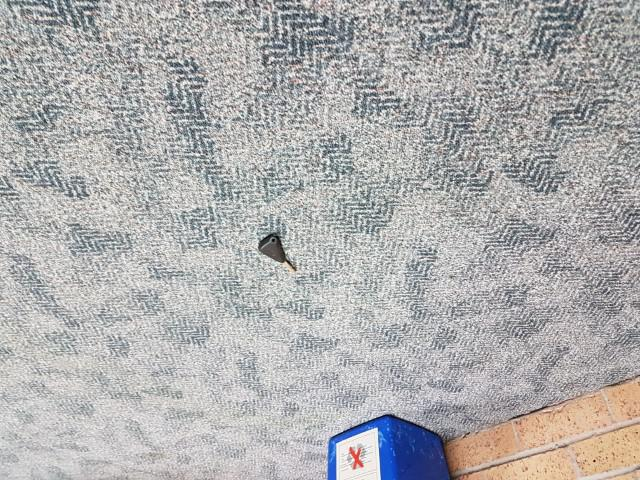key: (260, 233, 296, 274)
